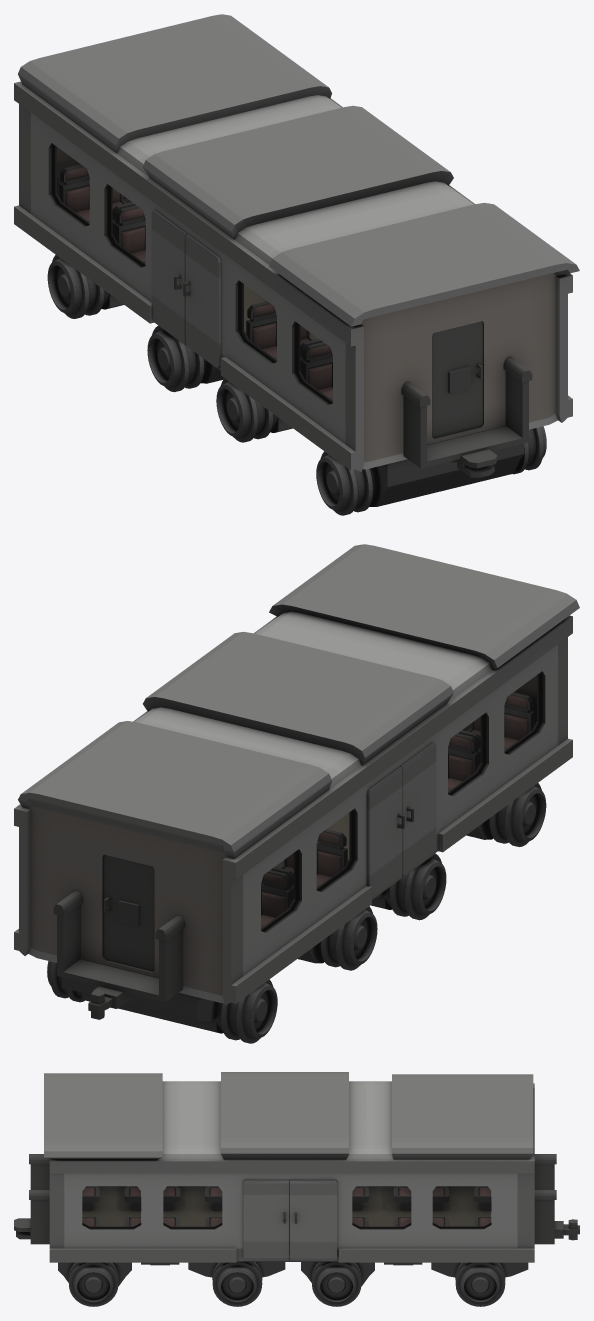
The model's file is vr_train_wagon.glb.
3 renders of one model, top to bottom at view 1: azimuth 30°, elevation 25°; view 2: azimuth 150°, elevation 25°; view 3: azimuth 270°, elevation 25°, orthographic. The views are drawn at different scales.
Visible parts, largest first — view 1: Cube.044; view 2: Cube.044; view 3: Cube.044.
Part boxes in pixels (x1,y1,x2,y2): Cube.044: (14, 14, 579, 515); Cube.044: (14, 544, 579, 1043); Cube.044: (14, 1072, 579, 1306).
Bounding box in the file's own units: 4.24 × 4.08 × 12.56.
Materials: 7 (6 with a texture image).
